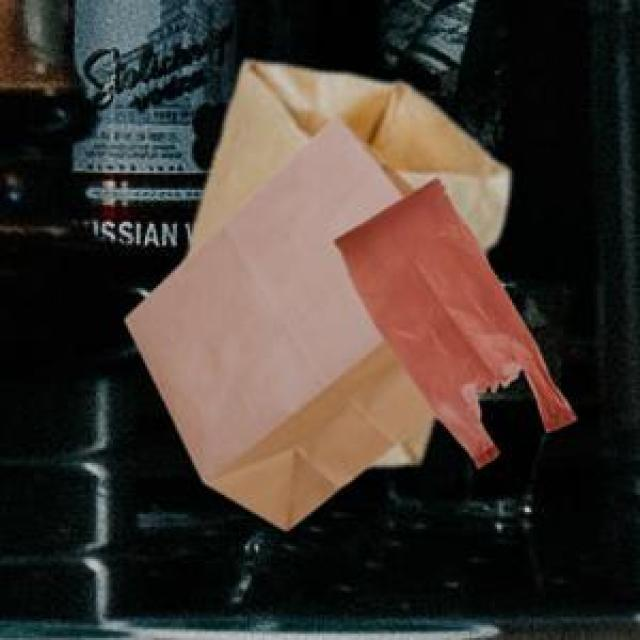paper: (185, 58, 504, 461), (122, 111, 429, 525)
